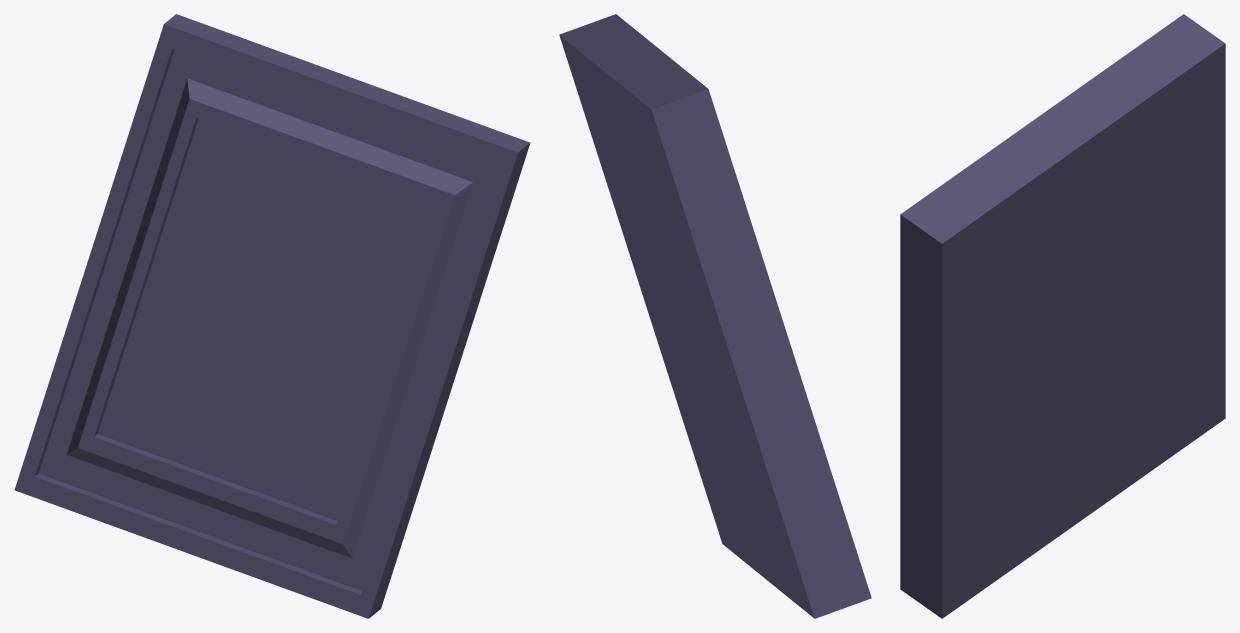
The model's file is AGVE_Painting2.fbx.
3 views of the same model, side by side, from view 1: azimuth 30°, elevation 25°; view 2: azimuth 150°, elevation 25°; view 3: azimuth 270°, elevation 25° (orthographic). The views are drawn at different scales.
Visible parts, largest first — view 1: Painting2; view 2: Painting2; view 3: Painting2.
Boxes of the visible parts, x1,y1,x2,y2 form: Painting2: [14, 14, 530, 618]; Painting2: [559, 14, 871, 618]; Painting2: [900, 14, 1225, 618].
Size of the model in its own units: 83.24 by 104 by 55.58.
